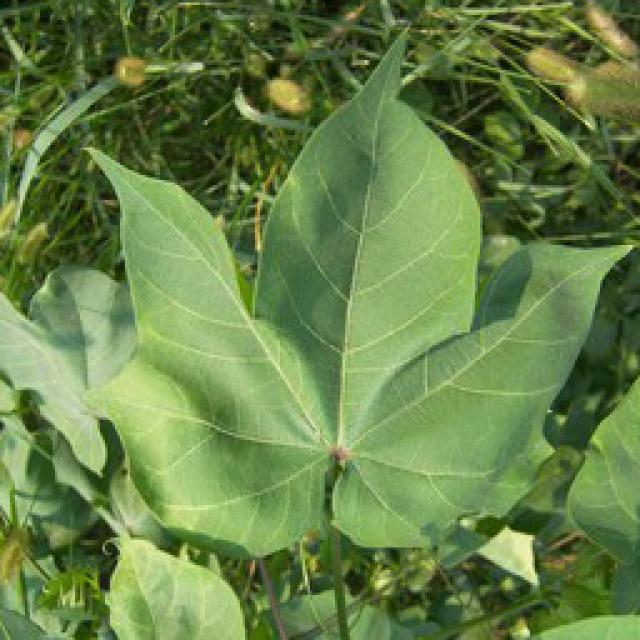Healthy Leaf: (0, 2, 640, 638)
